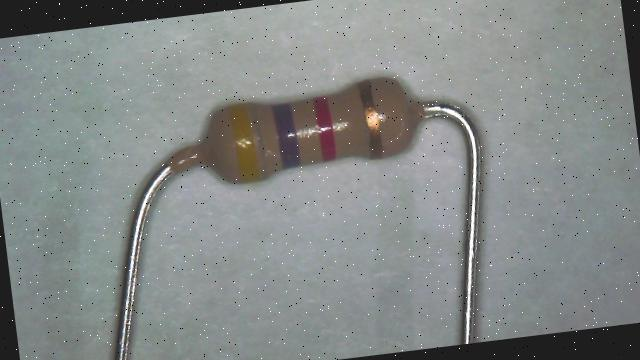gold: (358, 80, 386, 158)
red: (312, 94, 338, 160)
resistor: (156, 52, 436, 202)
violet: (270, 102, 302, 168)
yellow: (229, 102, 260, 182)
